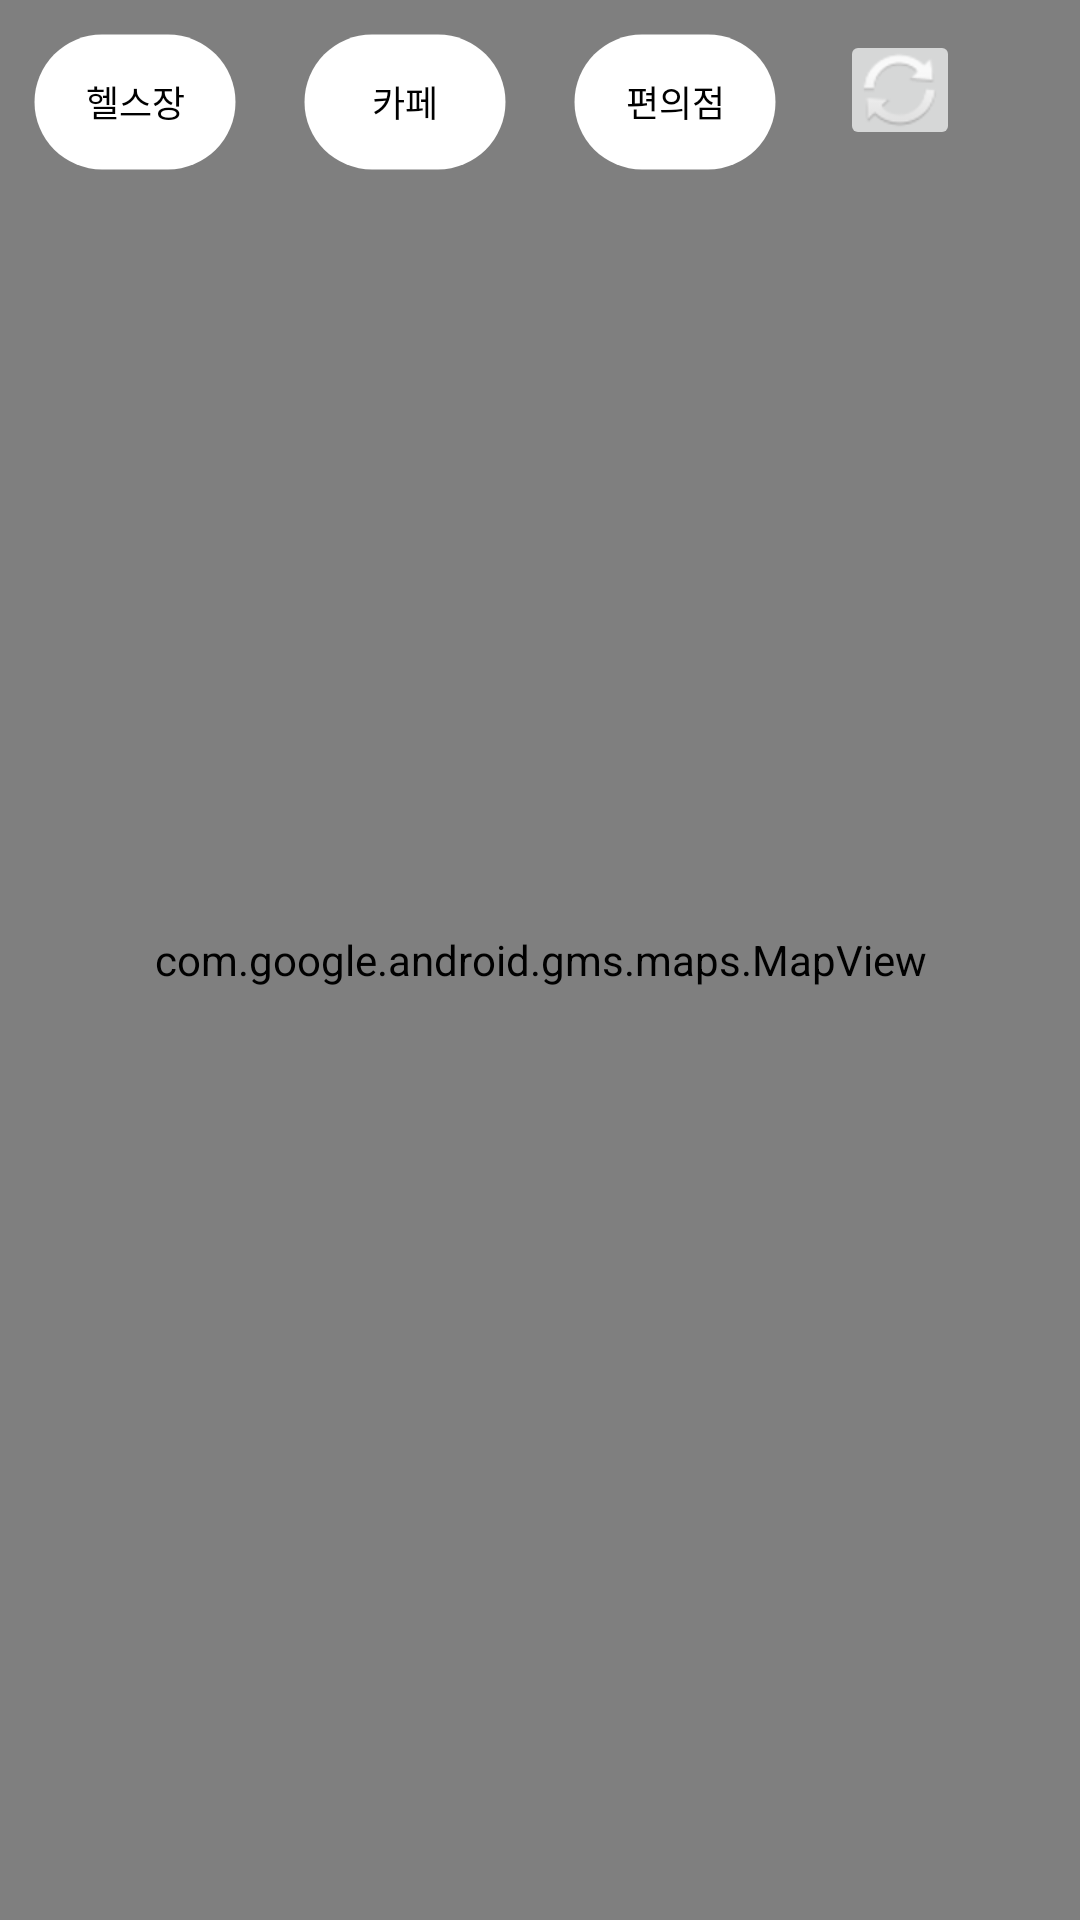

Named icons in this screenshot (1080×1920) and their centers, (x=x, y=y):
popup sync: (x=900, y=90)
